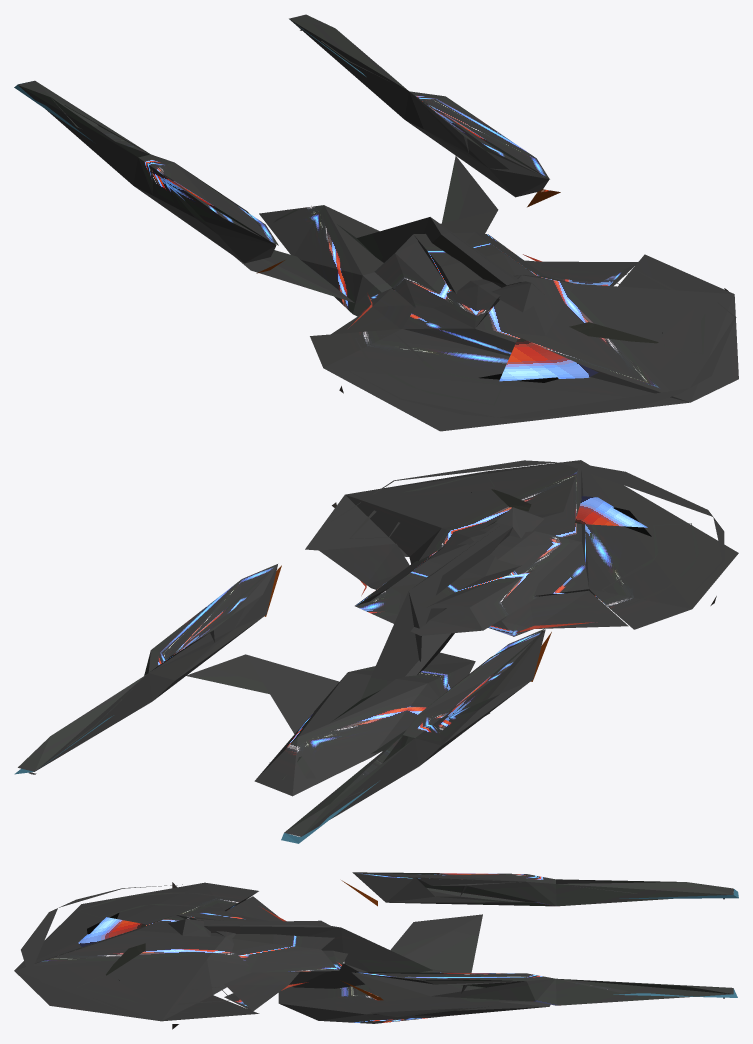
3 views of the same model, one above another, from view 1: azimuth 30°, elevation 25°; view 2: azimuth 150°, elevation 25°; view 3: azimuth 270°, elevation 25° (orthographic). The views are drawn at different scales.
Visible parts, largest first — view 1: Object_4; view 2: Object_4; view 3: Object_4.
Part boxes in pixels (left/top/right/bottom): Object_4: left=14, top=14, right=738, bottom=431; Object_4: left=14, top=460, right=738, bottom=843; Object_4: left=14, top=872, right=738, bottom=1029.
Bounding box in the file's own units: 18.06 × 6.37 × 38.97.
